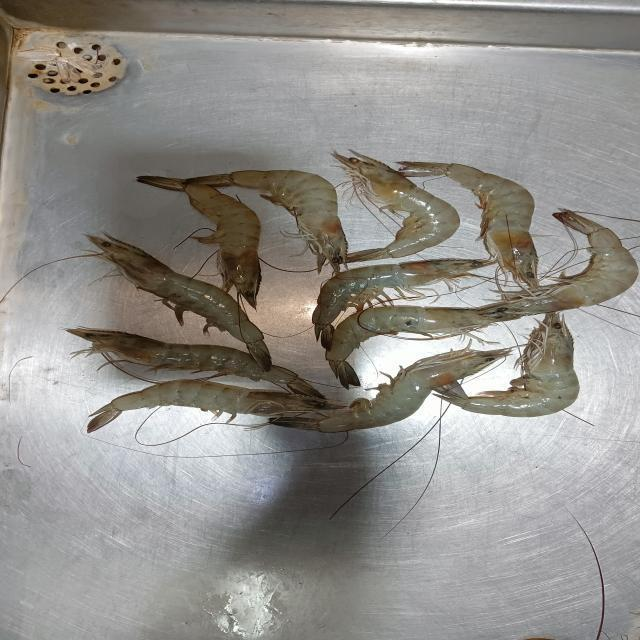shrimp: (86, 235, 271, 368), (271, 348, 511, 431), (395, 161, 537, 290), (66, 328, 316, 398), (328, 300, 524, 385), (138, 176, 260, 307), (196, 171, 347, 275), (435, 313, 578, 415), (504, 210, 638, 313), (333, 152, 459, 261), (314, 261, 472, 346), (85, 380, 311, 430)
